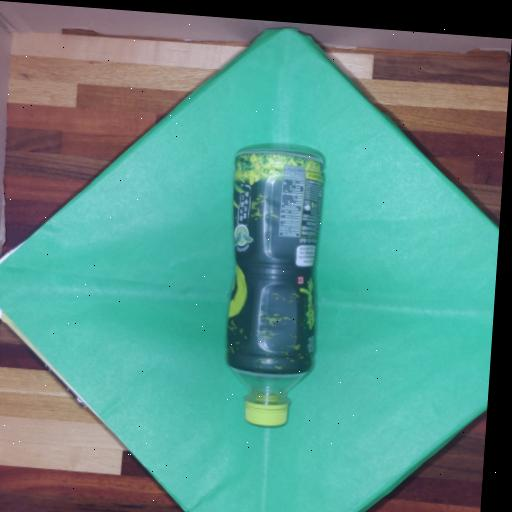bottle: (227, 149, 323, 425)
